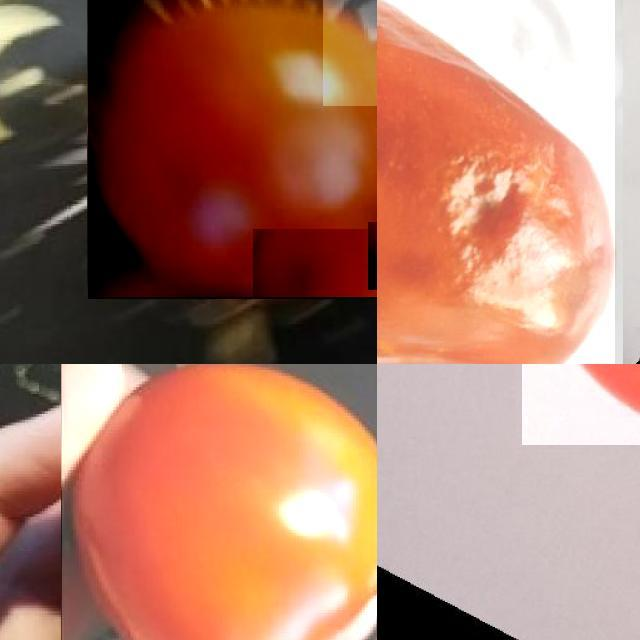Fresh Tomato: (62, 364, 377, 640), (88, 0, 377, 299)
Rotten Tomato: (377, 0, 615, 364)
